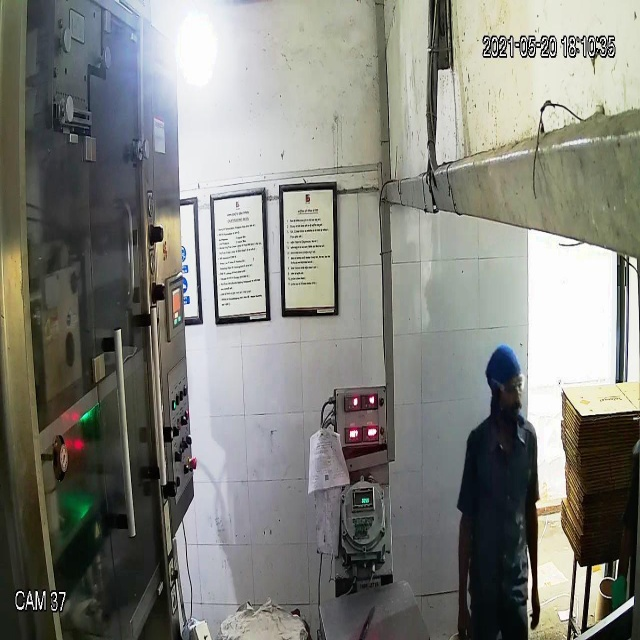Gafas: (488, 371, 527, 398)
